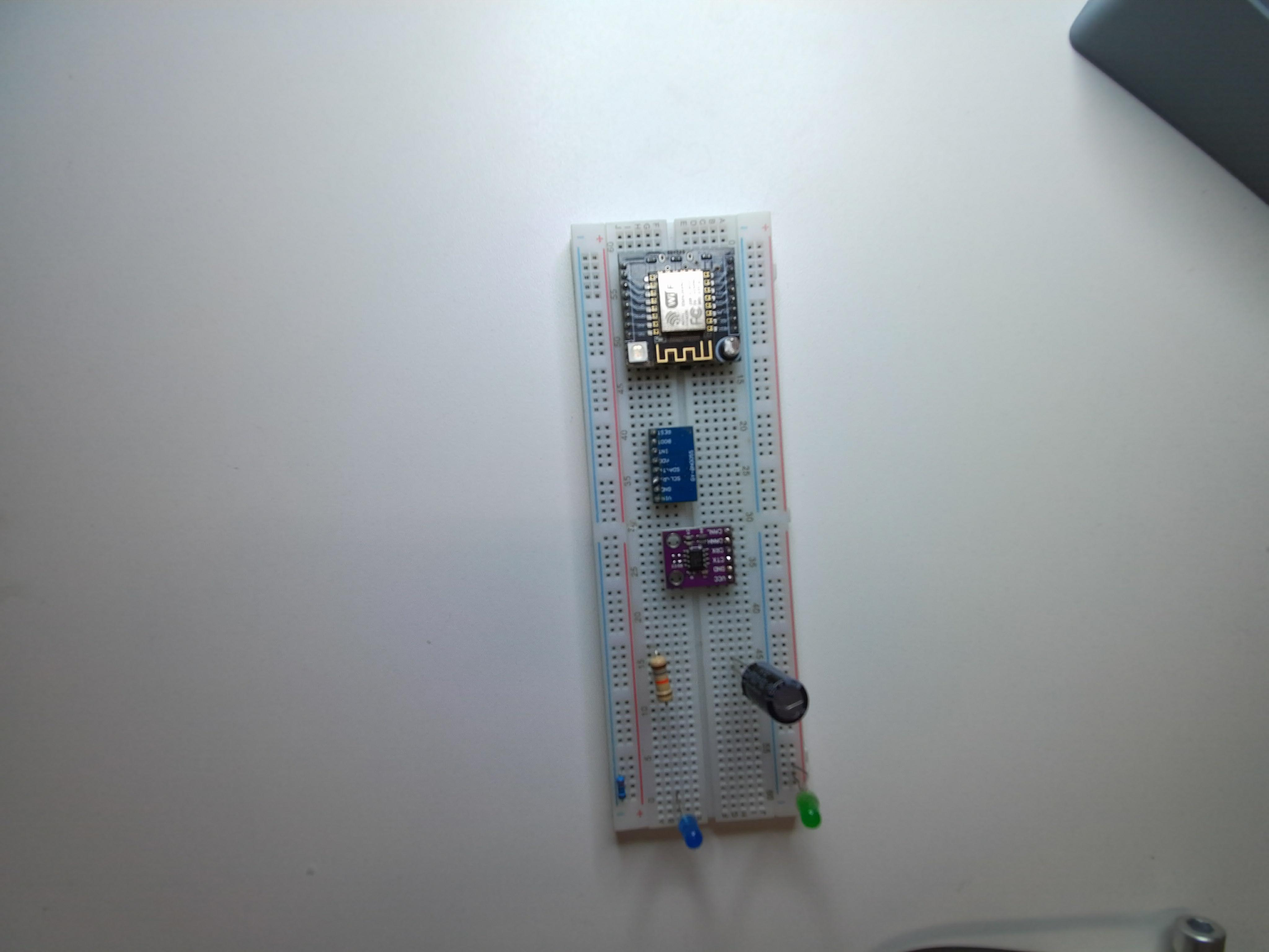base: (568, 209, 817, 853)
blue-board: (644, 423, 702, 507)
blue-led: (672, 812, 707, 852)
capacitor: (737, 656, 809, 729)
esp: (615, 247, 748, 375)
green-led: (790, 789, 828, 834)
purple-board: (658, 524, 738, 594)
resistor-big: (648, 651, 678, 707)
resistor-small: (613, 770, 629, 803)
